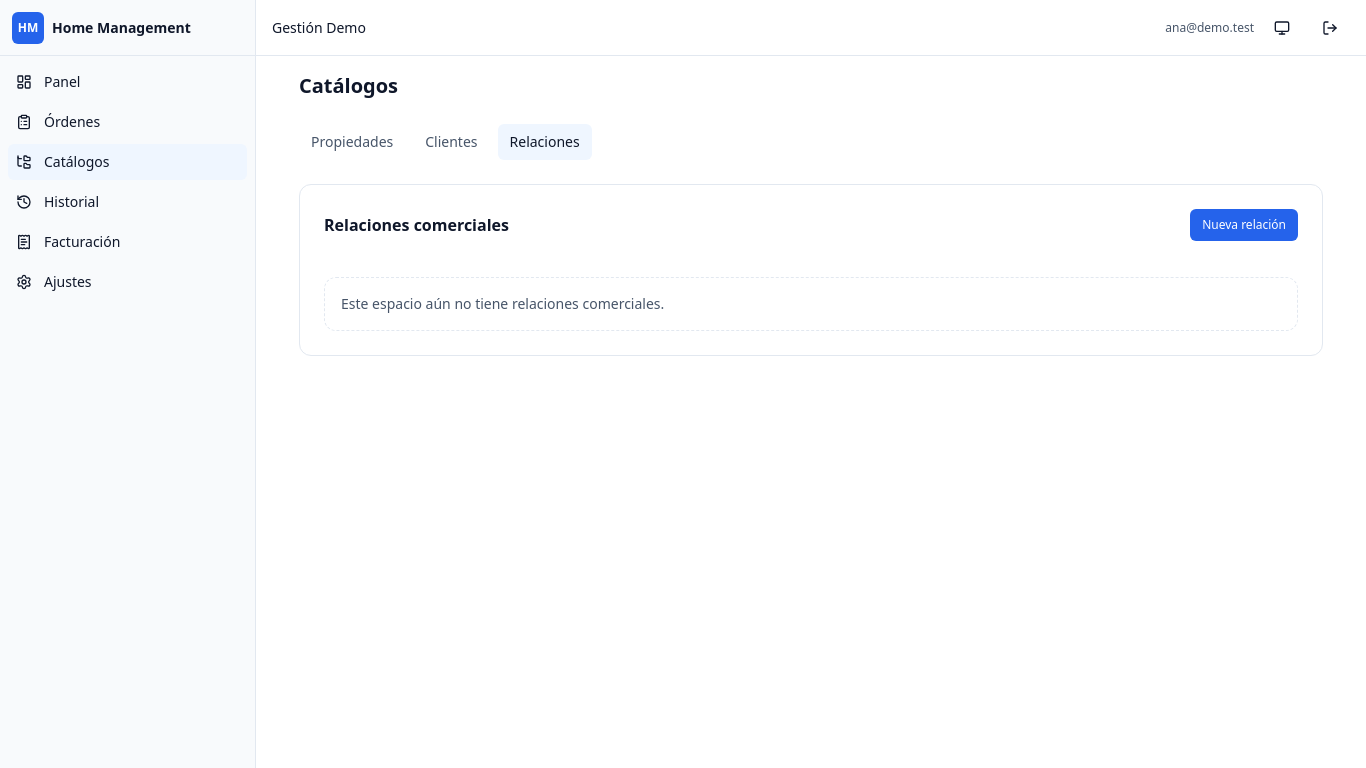
Test: commercial relations (spec F3 §2.1/§2.4, AC-F3.1/AC-F3.9) › creates a relation with an own client as counterparty (AC-F3.9)
This screenshot has width=1366, height=768.
Click the button "Nueva relación": x=1244, y=225 [1190,209,1298,241]
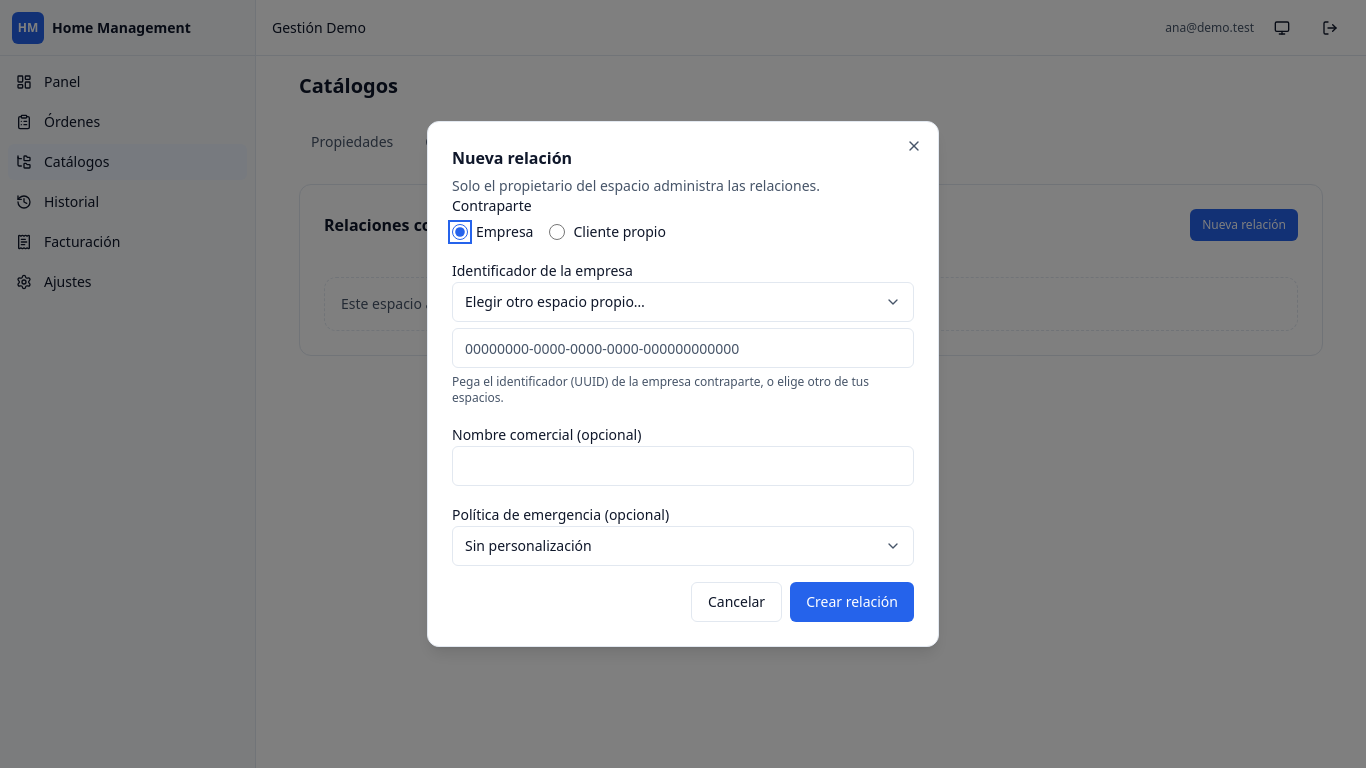
Click the radio button labelled "Cliente propio": x=558, y=232 [550,224,566,240]
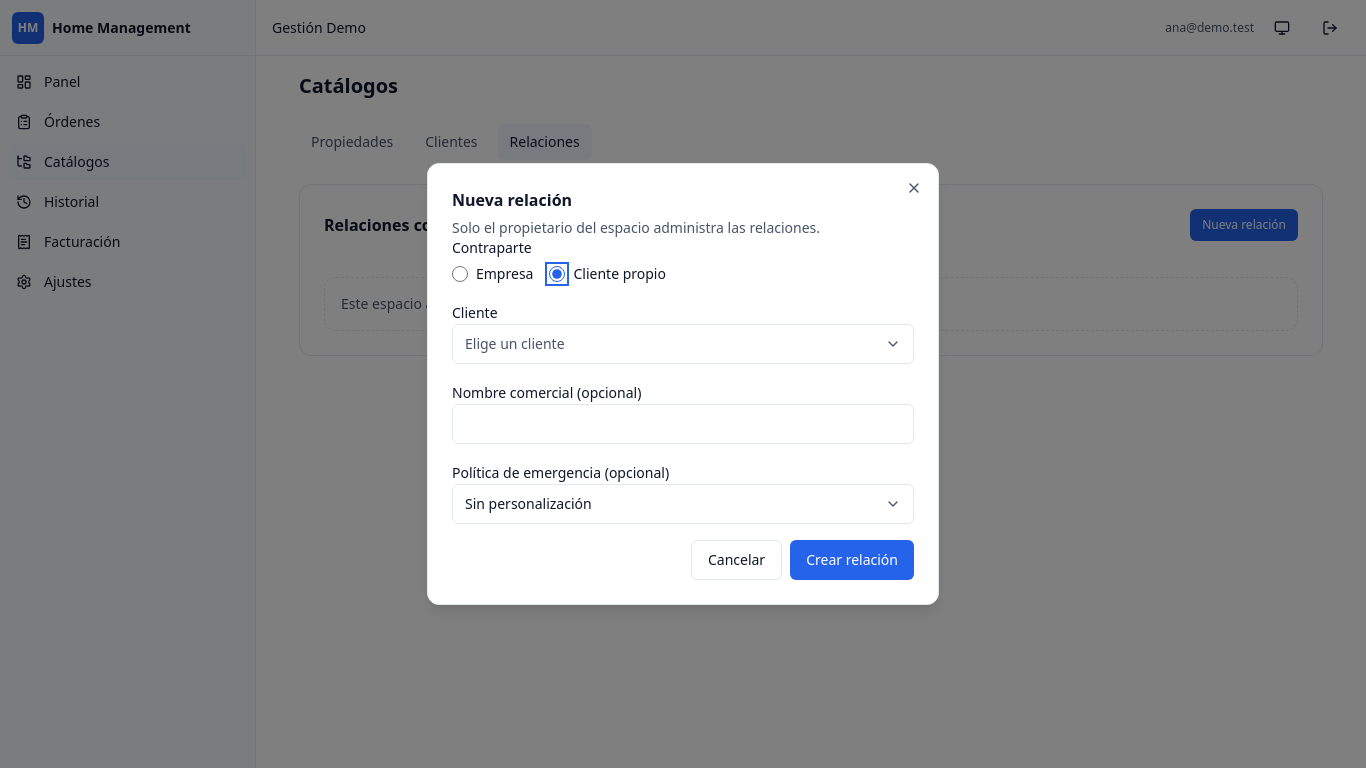
Click the dropdown labelled "cliente": x=515, y=344 [452,324,914,364]
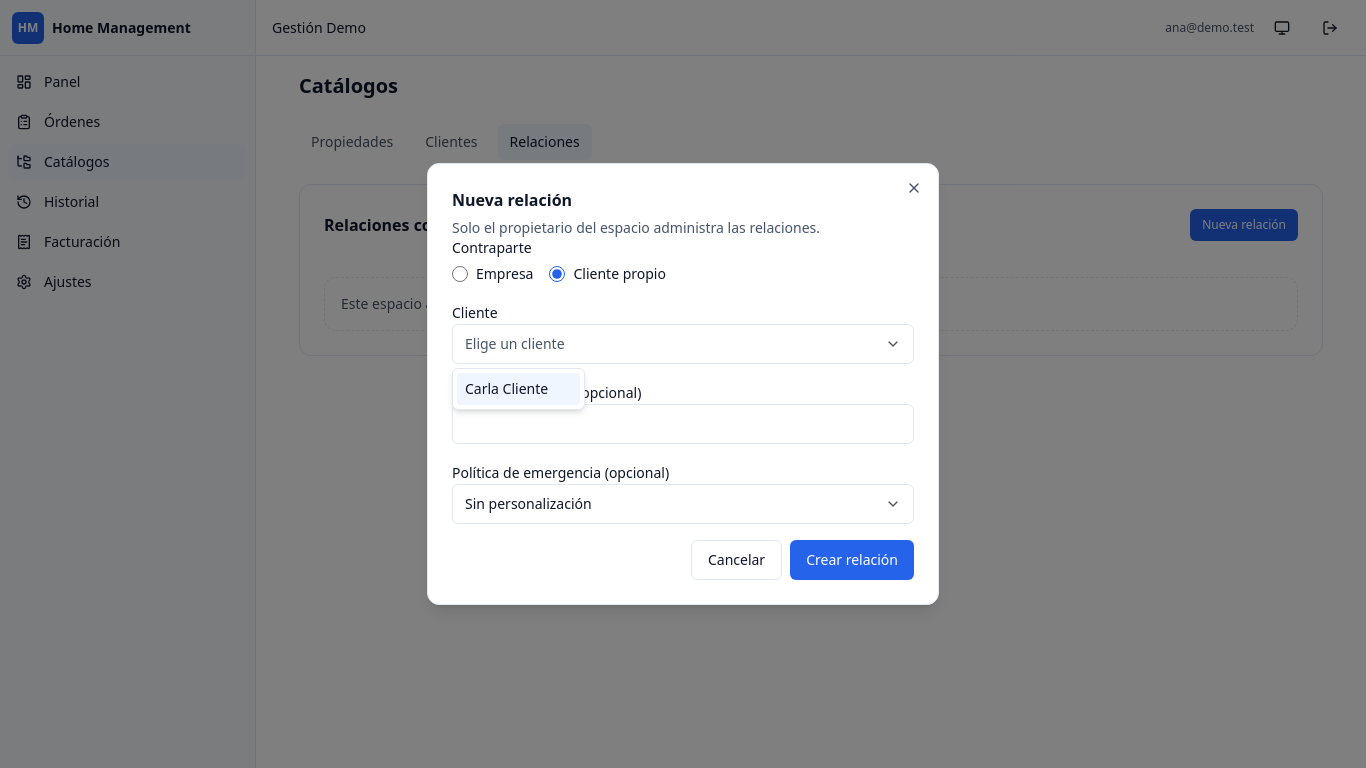
Click the option "Carla Cliente": x=519, y=389 [457,373,580,405]
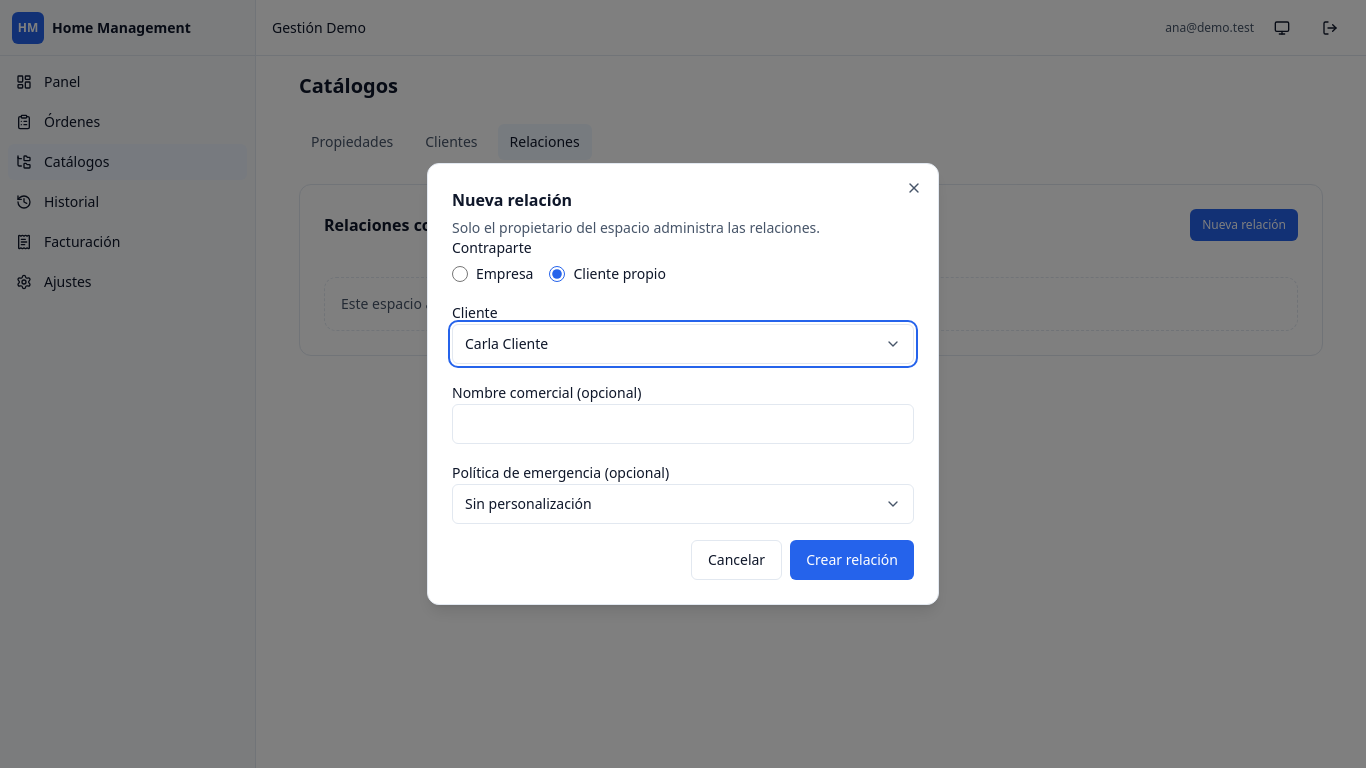
Click the button "Crear relación": x=852, y=560 [790,540,914,580]
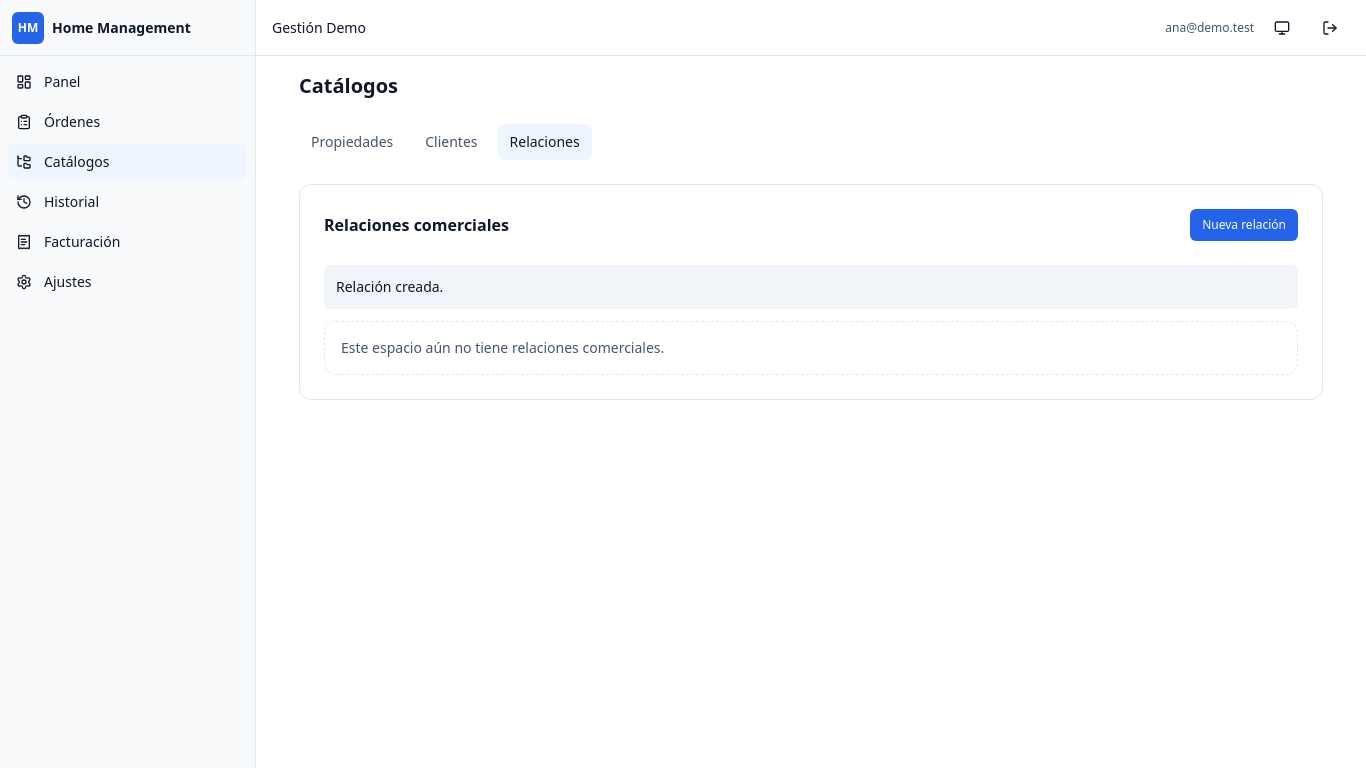
Now the text "Relación creada." is shown, box [324,265,1298,309]
